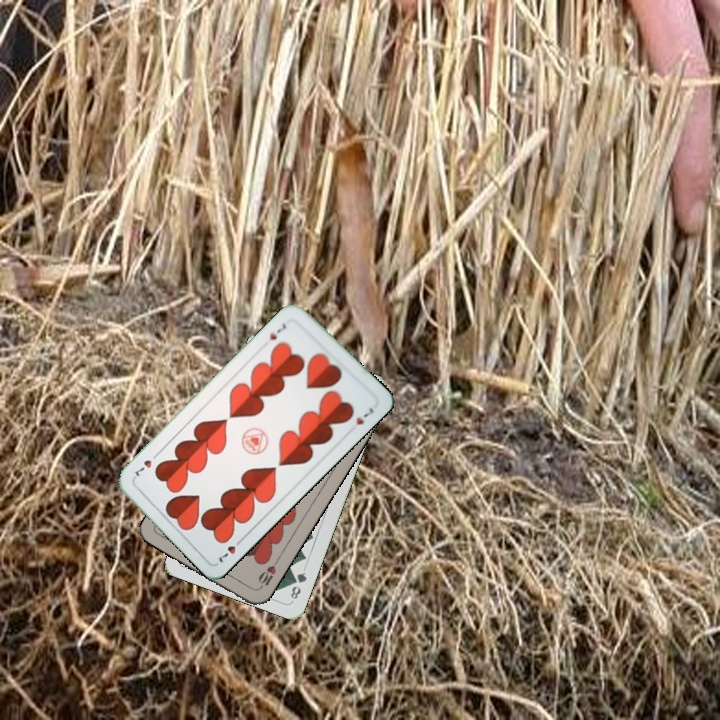G8: (286, 568, 309, 602)
H10: (254, 556, 281, 592)
H7: (214, 534, 246, 565), (265, 319, 289, 343)
